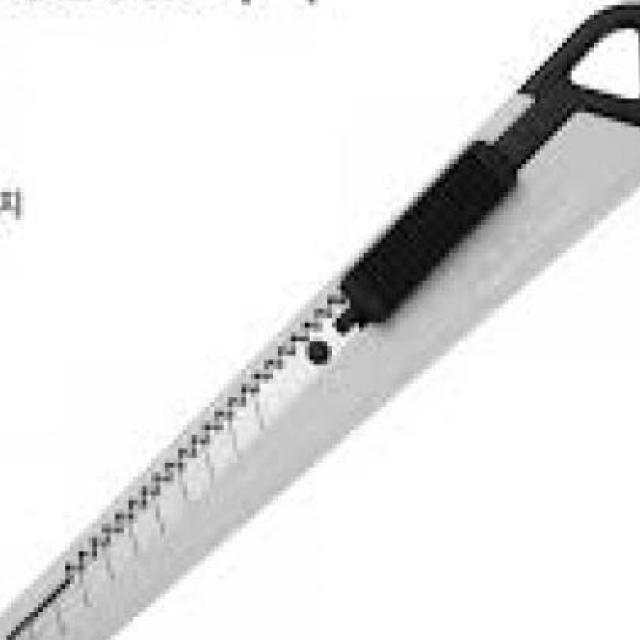estilete: (0, 3, 640, 640)
